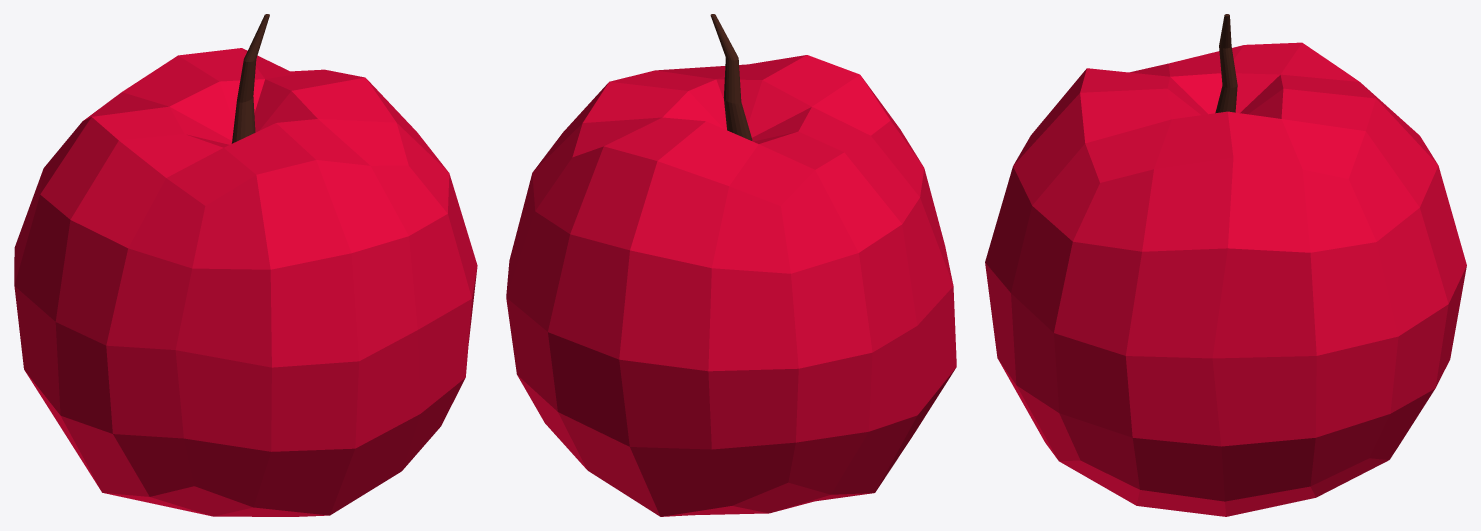
Rendered from Mela.fbx.
3 views of the same model, side by side, from view 1: azimuth 30°, elevation 25°; view 2: azimuth 150°, elevation 25°; view 3: azimuth 270°, elevation 25° (orthographic). The views are drawn at different scales.
Visible parts, largest first — view 1: Mela, Mela_picciolo; view 2: Mela, Mela_picciolo; view 3: Mela, Mela_picciolo.
Part boxes in pixels (box(x1,y1,x2,y2)): Mela: box(14, 48, 477, 516); Mela_picciolo: box(232, 14, 269, 143); Mela: box(506, 55, 956, 516); Mela_picciolo: box(710, 14, 752, 140); Mela: box(985, 42, 1466, 516); Mela_picciolo: box(1215, 14, 1237, 113).
Size of the model in its own units: 115 by 137 by 126.
